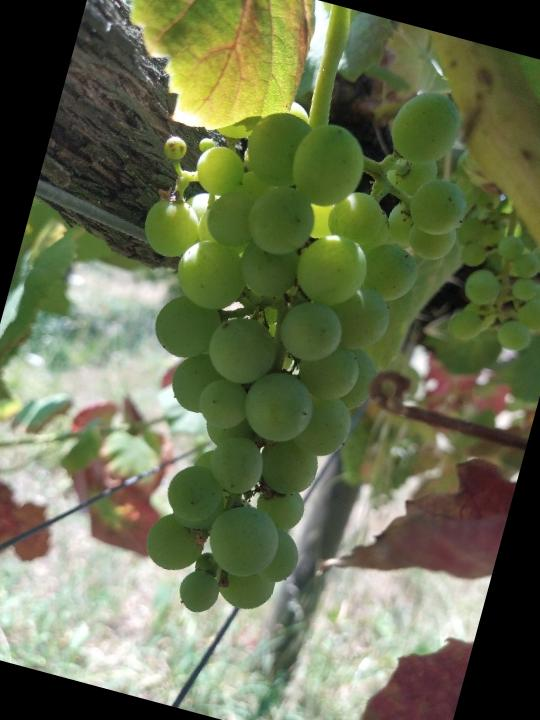grape: (49, 26, 504, 659)
